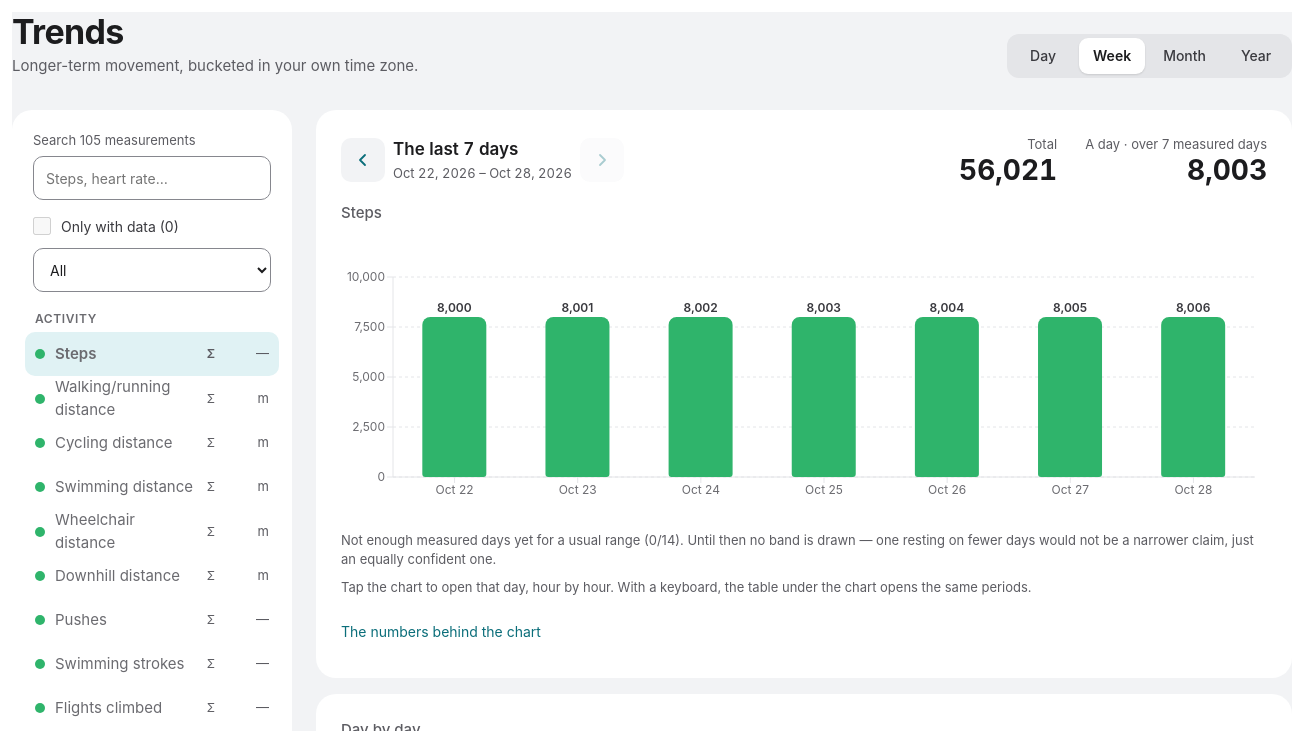
Scenario: the weekday grid › appears for the month too, and never over hours or months
The width and height of the screenshot is (1292, 731).
Click the button "Month" at (1185,56), box left=1149, top=38, right=1220, bottom=74
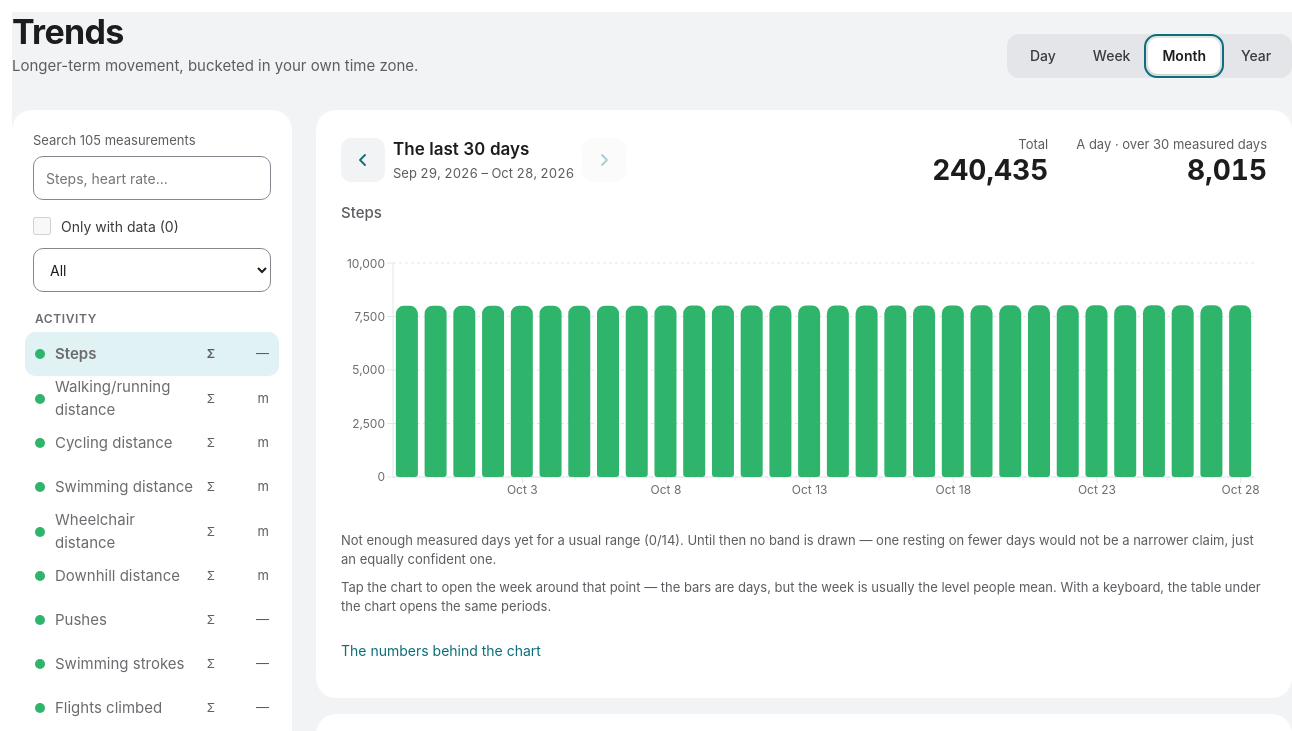
Click the button "Day" at (1043,56), box left=1011, top=38, right=1075, bottom=74
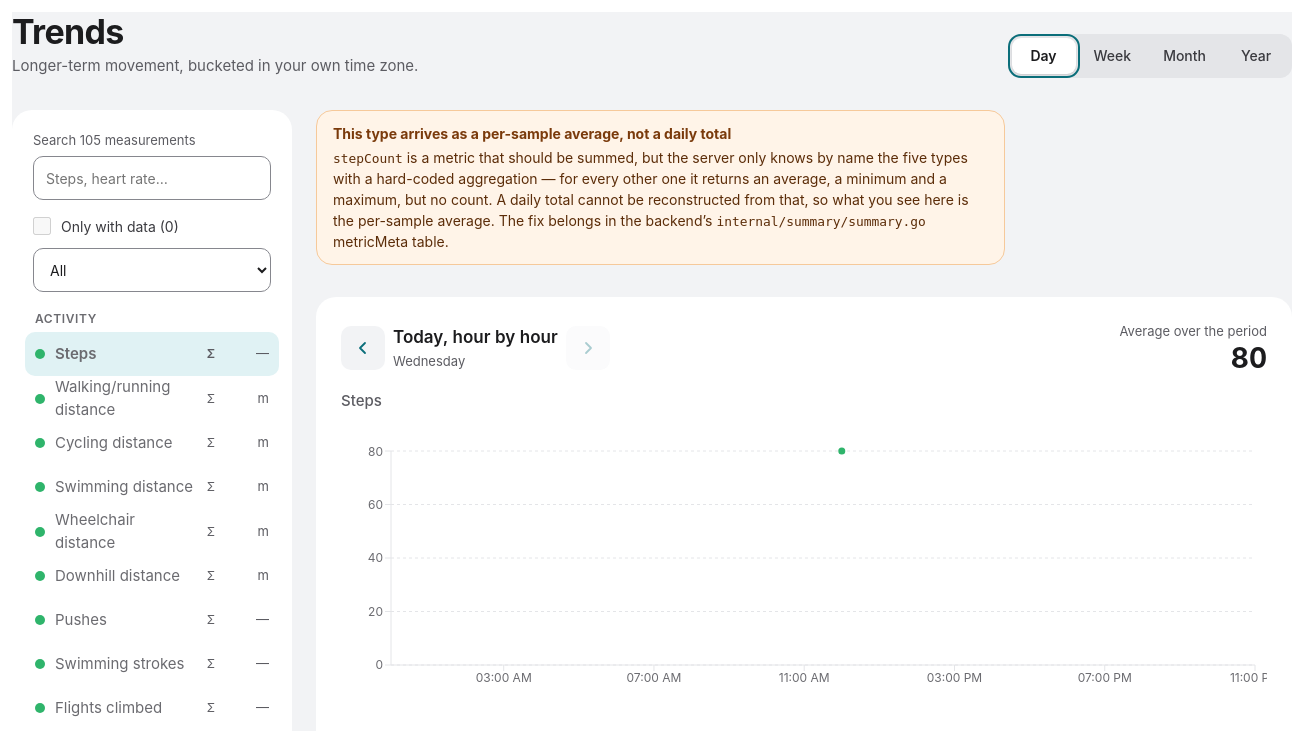
Check: the list "Day by day" is not shown
Check: the text "Today, hour by hour" is shown, box left=393, top=325, right=558, bottom=351
Click the button "Year" at (1256,56), box left=1224, top=38, right=1288, bottom=74
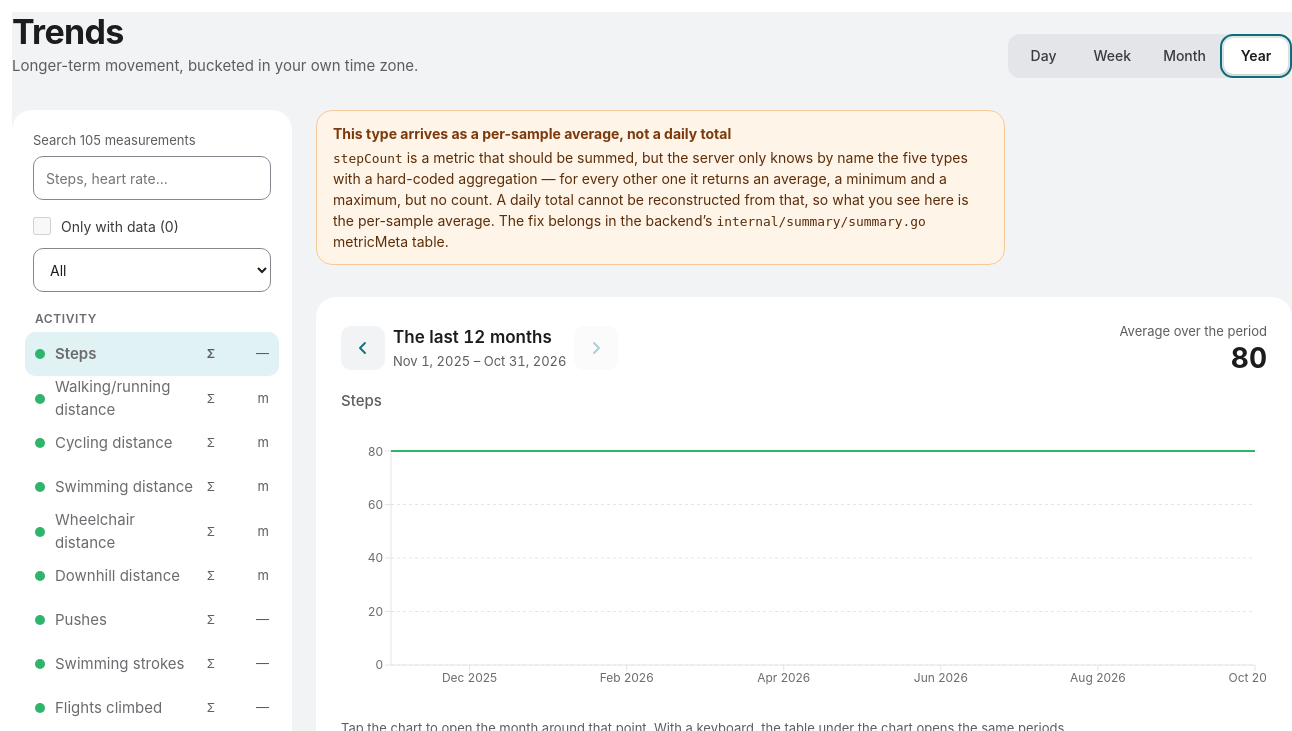
Check: the list "Day by day" is not shown
Check: the text "The last 12 months" is shown, box left=393, top=325, right=566, bottom=351
